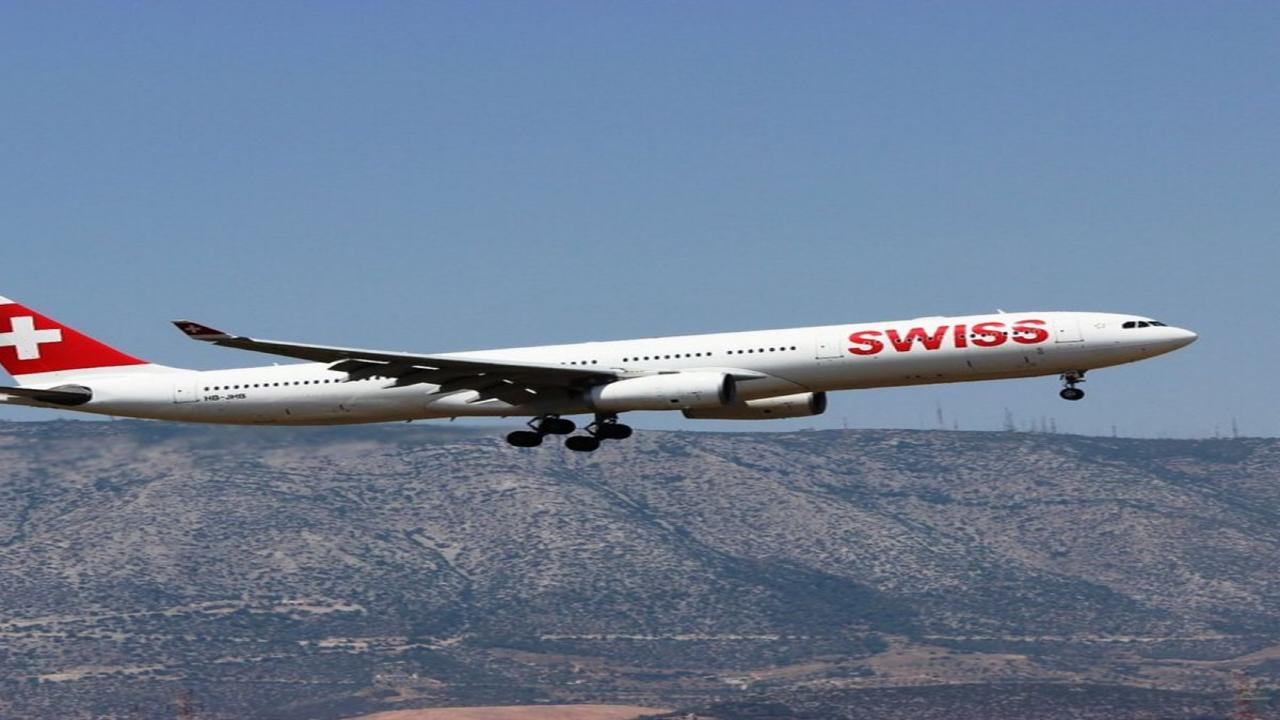Airplane: (0, 277, 1214, 463)
